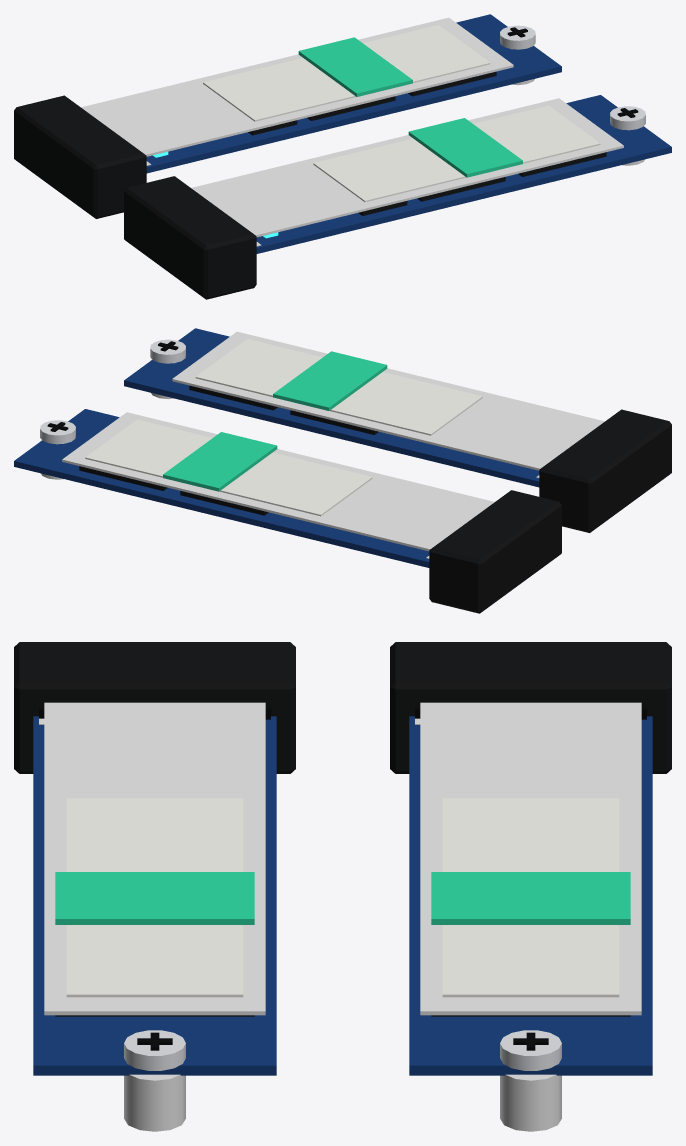
Rendered from hwm_sto_sas_600gb_15k.glb.
The picture shows the model from 3 angles, top to bottom: view 1: azimuth 30°, elevation 25°; view 2: azimuth 150°, elevation 25°; view 3: azimuth 270°, elevation 25°; orthographic projection. The views are drawn at different scales.
Visible parts, largest first — view 1: SSD_0, SSD_1, Slots, Screw_0, Screw_1; view 2: SSD_1, SSD_0, Slots, Screw_1, Screw_0; view 3: SSD_0, SSD_1, Slots, Screw_0, Screw_1.
Part boxes in pixels (box(x1,y1,x2,y2)): SSD_0: box(81, 14, 561, 173); SSD_1: box(191, 95, 671, 253); Slots: box(14, 45, 645, 299); Screw_0: box(500, 25, 535, 49); Screw_1: box(610, 106, 645, 130); SSD_1: box(124, 328, 604, 487); SSD_0: box(14, 409, 494, 567); Slots: box(40, 359, 671, 613); Screw_1: box(150, 339, 185, 363); Screw_0: box(40, 420, 75, 444); SSD_0: box(409, 702, 652, 1075); SSD_1: box(33, 702, 276, 1075); Slots: box(14, 642, 671, 1131); Screw_0: box(500, 1030, 561, 1070); Screw_1: box(124, 1030, 185, 1070).
Size of the model in its own units: 0.0855 by 0.0092 by 0.0595.
